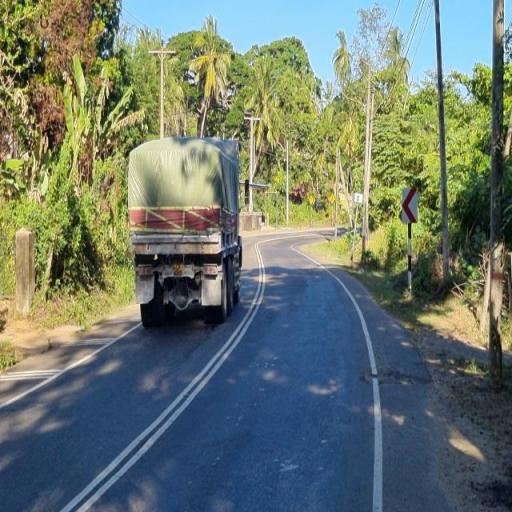double_white_line: (62, 237, 270, 512)
